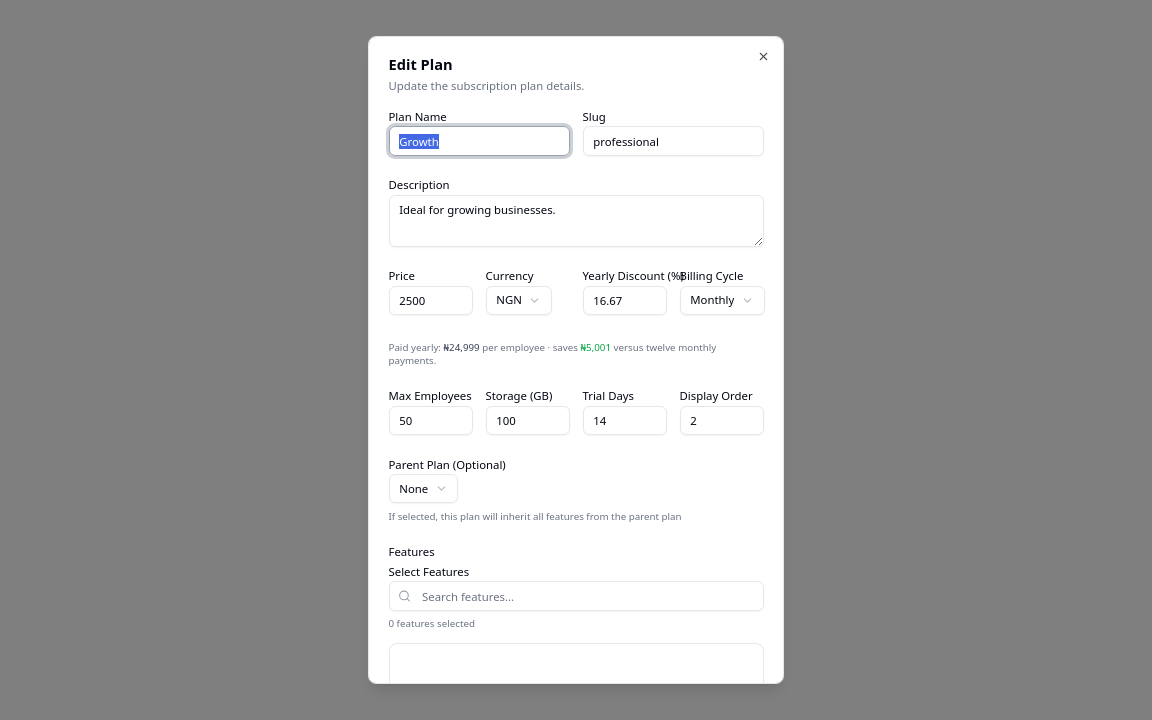
Test case: PlanForm yearly discount › recomputes the hint as the admin types a new discount
Replace the text in the number field labelled "Yearly Discount (%)" with "25" at {"x": 624, "y": 300}, box x1=582 y1=286 x2=666 y2=315
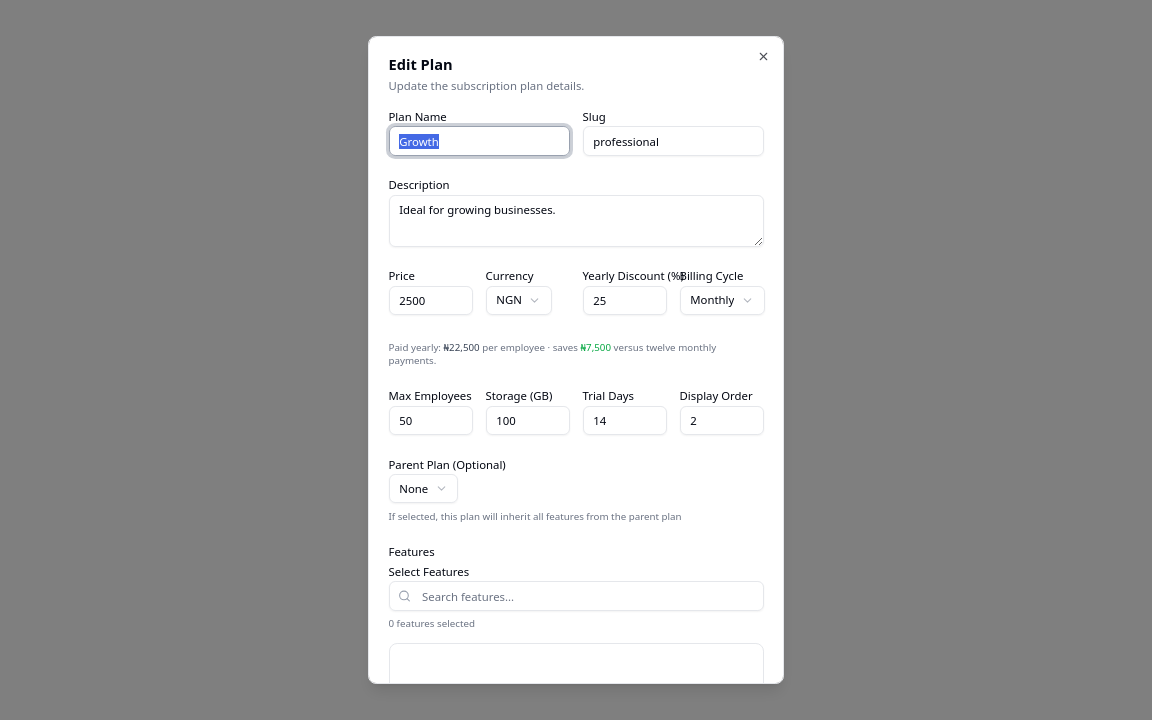
Result: the element with test id "yearly-discount-hint" shows "22,500" at x1=444 y1=341 x2=480 y2=354
